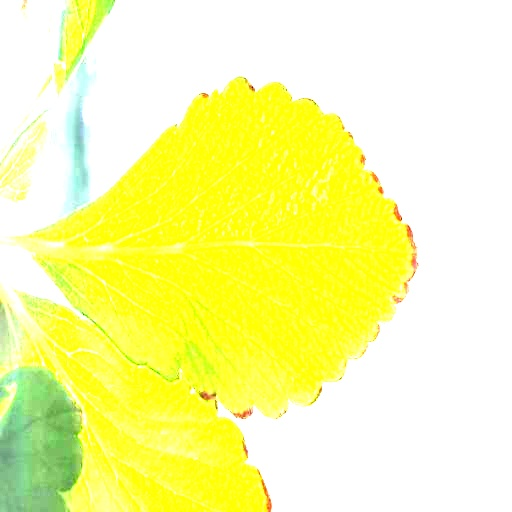Angular Leafspot: (171, 87, 355, 248)
